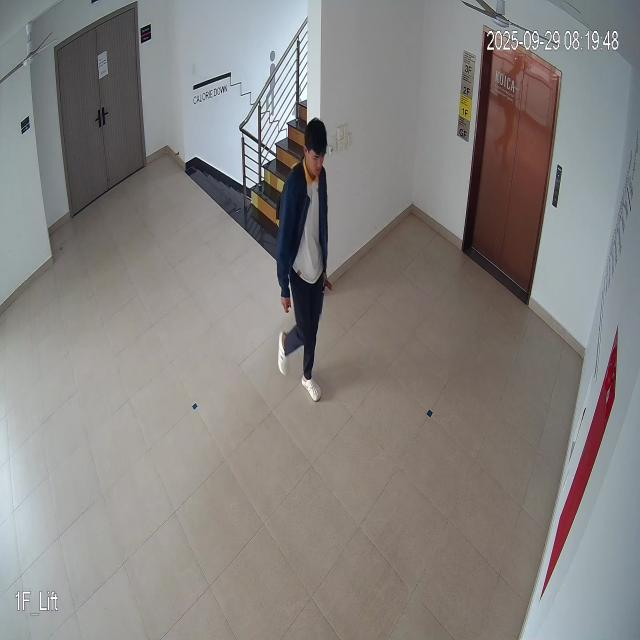face: (301, 114, 330, 179)
